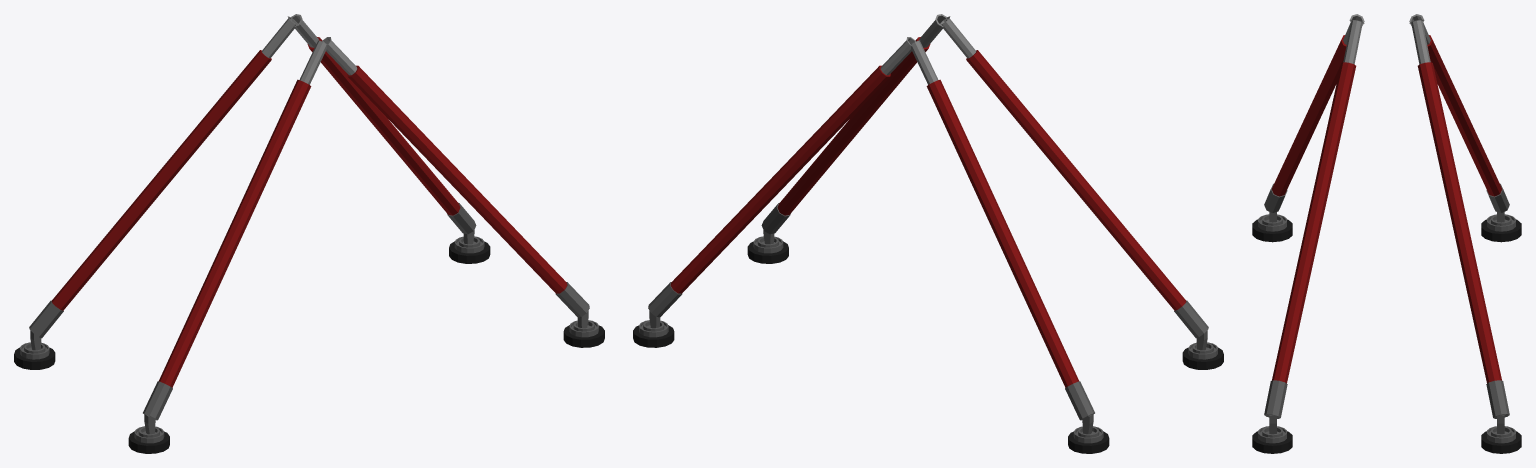
The model's file is SM_pirateship_pillars.fbx.
3 renders of one model, left to right at view 1: azimuth 30°, elevation 25°; view 2: azimuth 150°, elevation 25°; view 3: azimuth 270°, elevation 25°, orthographic.
Parts seen in each view (by area): view 1: Line015; view 2: Line015; view 3: Line015.
Boxes of the visible parts, x1,y1,x2,y2 form: Line015: [14, 14, 604, 453]; Line015: [633, 14, 1223, 453]; Line015: [1252, 14, 1521, 453].
Size of the model in its own units: 840 by 551 by 417.
